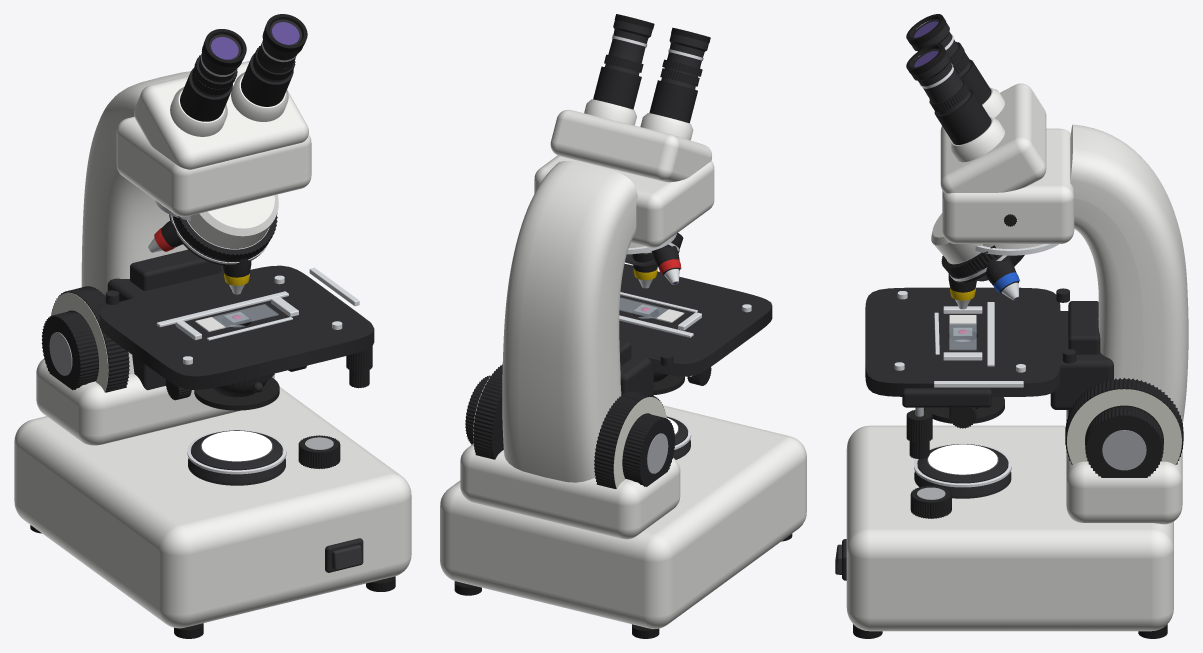
File: microscope.glb
The picture shows the model from 3 angles, left to right: view 1: azimuth 30°, elevation 25°; view 2: azimuth 150°, elevation 25°; view 3: azimuth 270°, elevation 25°; orthographic projection. The views are drawn at different scales.
Visible parts, largest first — view 1: BaseShell, StagePlate, Arm, HeadLower, BaseRear, HeadTop, EyepieceR, EyepieceL, Fine_2, NosepieceMount, Illuminator, SlideColumn (+13 smaller); view 2: BaseShell, Arm, BaseRear, StagePlate, HeadTop, HeadLower, EyepieceR, EyepieceL, Fine_2, Coarse, Coarse_2, FocusScale_2 (+8 smaller); view 3: BaseShell, Arm, StagePlate, HeadLower, HeadTop, BaseRear, EyepieceR, Fine, FocusScale, MechStage, Illuminator, StageCarrier (+15 smaller).
Boxes of the visible parts, box(x1,y1,x2,y2) form: BaseShell: box(14, 387, 411, 628); StagePlate: box(99, 265, 374, 389); Arm: box(81, 71, 190, 374); HeadLower: box(116, 116, 311, 216); BaseRear: box(36, 358, 274, 445); HeadTop: box(134, 61, 308, 169); EyepieceR: box(231, 14, 307, 121); EyepieceL: box(170, 29, 246, 136); Fine_2: box(41, 311, 98, 390); NosepieceMount: box(187, 194, 278, 249); Illuminator: box(187, 430, 286, 485); SlideColumn: box(130, 249, 221, 390); BaseShell: box(440, 405, 806, 629); Arm: box(502, 161, 637, 482); BaseRear: box(460, 444, 680, 539); StagePlate: box(619, 264, 772, 376); HeadTop: box(550, 109, 711, 182); HeadLower: box(534, 155, 714, 247); EyepieceR: box(584, 14, 654, 125); EyepieceL: box(640, 27, 710, 140); Fine_2: box(622, 414, 675, 486); Coarse: box(473, 364, 503, 459); Coarse_2: box(594, 391, 664, 488); FocusScale_2: box(613, 397, 666, 488); BaseShell: box(846, 425, 1173, 631); Arm: box(1070, 124, 1188, 422); StagePlate: box(865, 287, 1060, 396); HeadLower: box(942, 128, 1074, 243); HeadTop: box(940, 83, 1046, 193); BaseRear: box(1066, 410, 1182, 524); EyepieceR: box(906, 43, 1004, 162); Fine: box(1085, 406, 1163, 477); FocusScale: box(1067, 389, 1181, 465); MechStage: box(902, 388, 991, 459); Illuminator: box(914, 443, 1011, 498); StageCarrier: box(1050, 311, 1113, 409).
Size of the model in its own units: 0.27 by 0.5791 by 0.3347.
20 materials, 5 textured.
